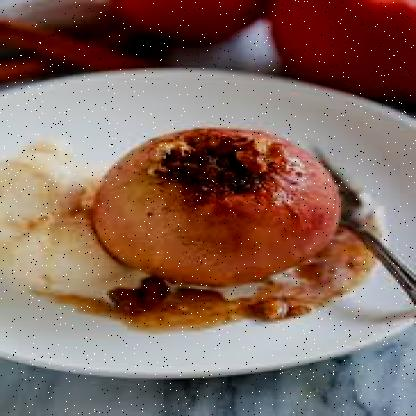damaged_apple: (93, 127, 341, 287)
